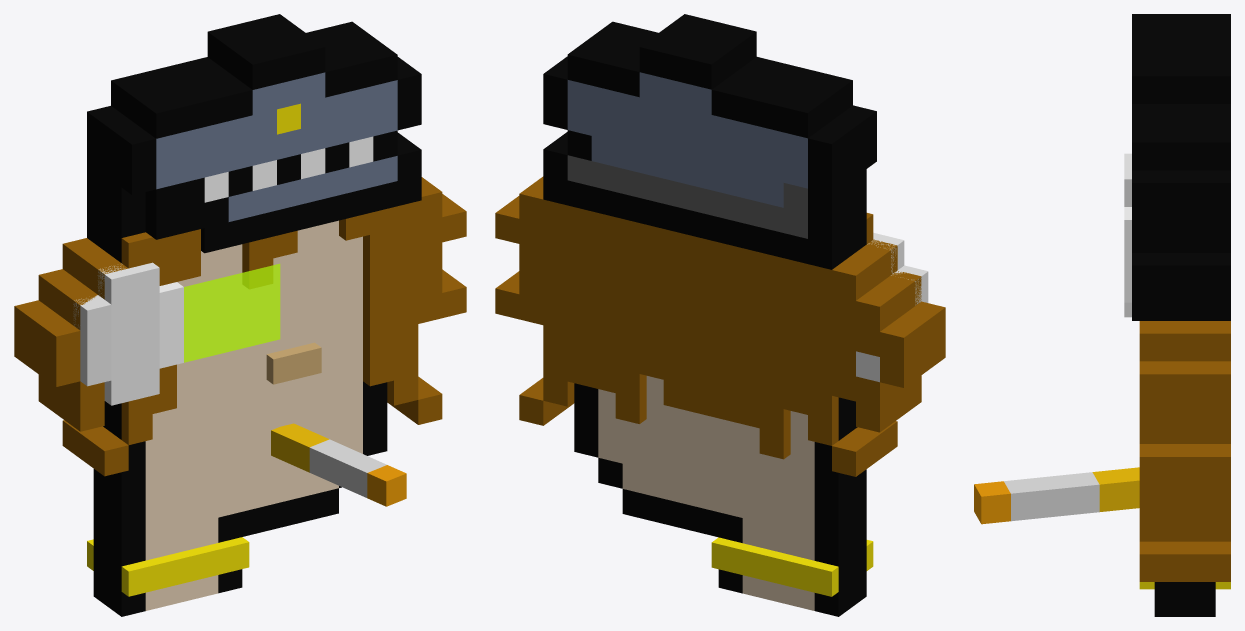
3 renders of one model, left to right at view 1: azimuth 30°, elevation 25°; view 2: azimuth 150°, elevation 25°; view 3: azimuth 270°, elevation 25°, orthographic. The views are drawn at different scales.
Visible parts, largest first — view 1: male01_face, hat_cop_face, hair02_face (×2), glasses_dbz_mount, glasses_dbz_glass, cigarette, hair02_back (×2), hat_cop_back, male01_back, jewels_necklass_straight_front, jewels_necklass_straight_neck, nose_regular_main; view 2: hair02_back (×2), hat_cop_back, male01_back, hat_cop_face, hair02_face (×2), male01_face, jewels_necklass_straight_back, jewels_necklass_straight_neck, glasses_dbz_mount (×2); view 3: hat_cop_face, hair02_face (×2), hair02_back (×2), hat_cop_back, cigarette, male01_face, male01_back, glasses_dbz_mount.
Boxes of the visible parts, x1,y1,x2,y2 form: male01_face: (107,177,387,616); hat_cop_face: (97,22,421,253); hair02_face (×2): (35,177,466,476); glasses_dbz_mount: (73,262,183,405); glasses_dbz_glass: (184,263,280,362); cigarette: (271,423,406,506); hair02_back (×2): (14,194,445,460); hat_cop_back: (87,14,365,244); male01_back: (93,167,107,606); jewels_necklass_straight_front: (146,543,225,590); jewels_necklass_straight_neck: (121,537,249,596); nose_regular_main: (266,342,321,384); hair02_back (×2): (495,178,924,476); hat_cop_back: (543,37,844,269); male01_back: (574,179,852,616); hat_cop_face: (554,14,876,186); hair02_face (×2): (516,176,945,461); male01_face: (852,169,866,606); jewels_necklass_straight_back: (735,543,814,590); jewels_necklass_straight_neck: (711,537,838,596); glasses_dbz_mount (×2): (856,232,928,382); hat_cop_face: (1132,14,1207,320); hair02_face (×2): (1139,321,1185,581); hair02_back (×2): (1185,321,1230,581); hat_cop_back: (1200,14,1230,320); cigarette: (974,467,1139,524); male01_face: (1154,238,1185,616); male01_back: (1185,238,1215,616); glasses_dbz_mount: (1124,153,1131,317).
Bounding box in the file's own units: 17 × 21 × 8.44.
